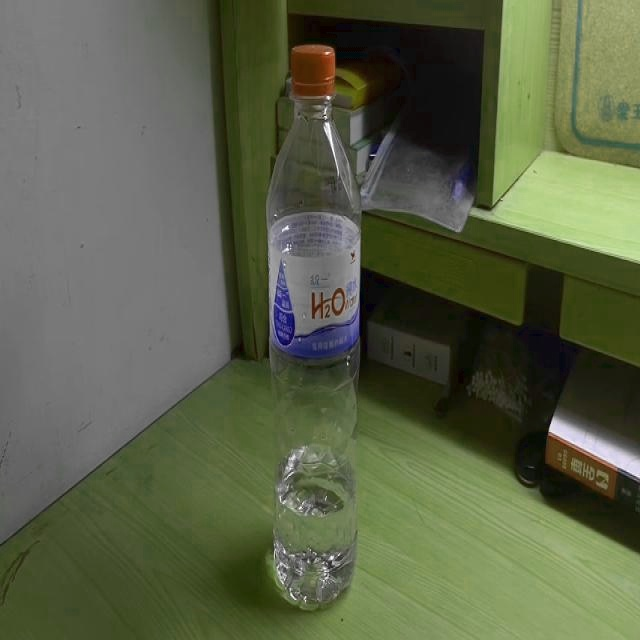Water: (266, 44, 360, 614)
